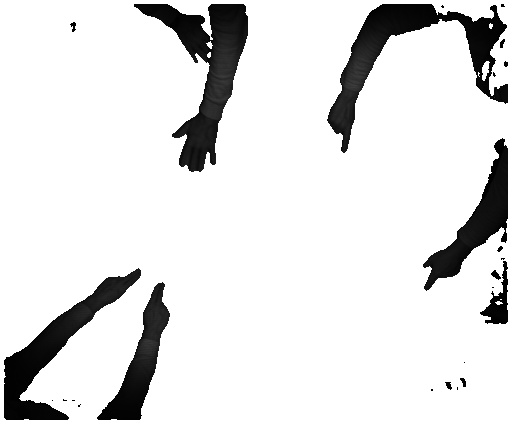hand: (168, 120, 223, 175), (163, 15, 215, 67), (88, 264, 144, 309), (416, 246, 465, 295), (320, 100, 359, 159), (143, 281, 175, 337)
